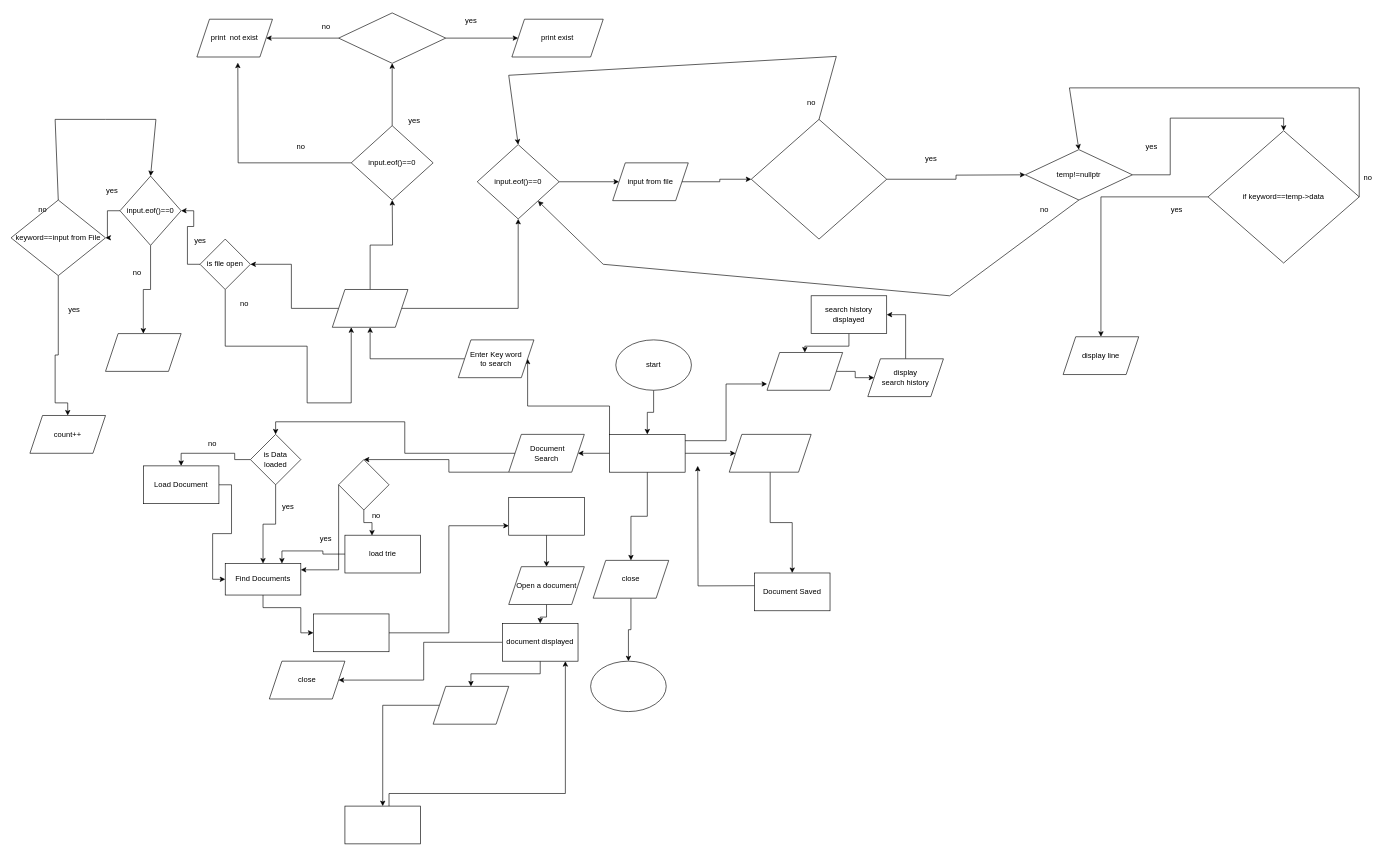
This 1389x855 diagram has some shape labels left out. The centre of each missing label's shape, as x and y in pixels:
Add new document: point (770, 453)
add to search history: point (351, 632)
Displays all match document: point (546, 516)
End: point (628, 686)
Enter file name int count=0;: point (370, 308)
HighLight all matches: point (382, 824)
if input[input.length()-1=='.']: point (819, 179)
is keyword==input: point (392, 37)
is Trie loaded: point (363, 484)
Main Window: point (647, 453)
Perform Search: point (470, 705)
print count: point (143, 352)
settings: point (804, 371)
